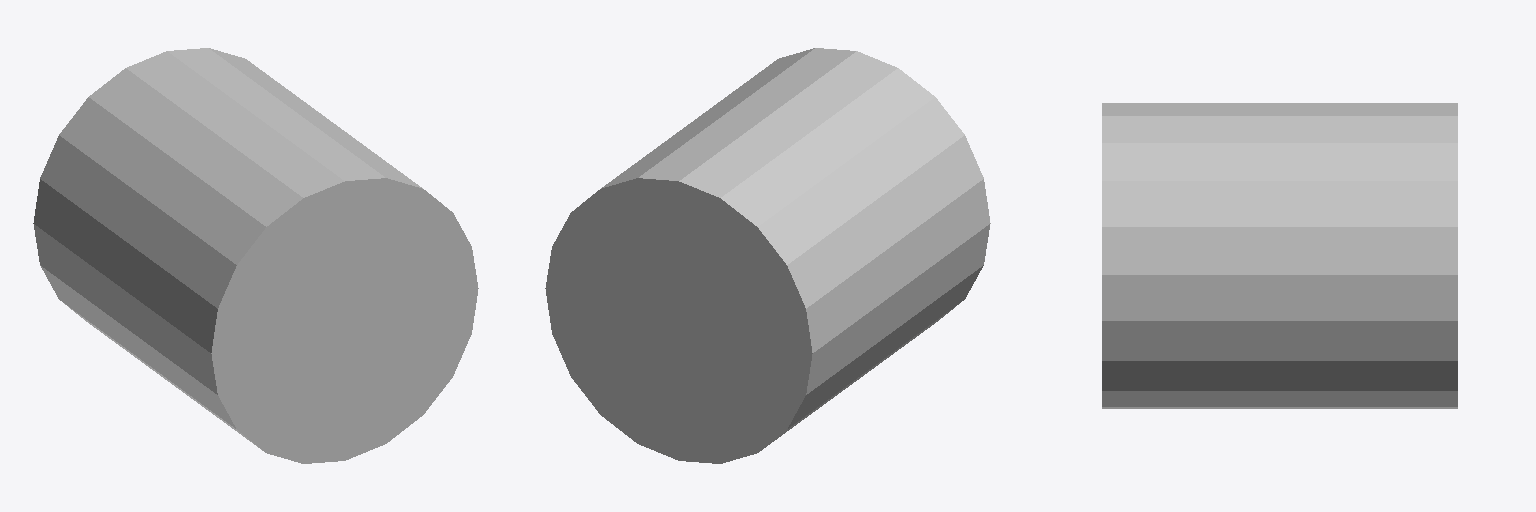
File: Resaltado_Corrugador_D.obj
The picture shows the model from 3 angles: view 1: azimuth 30°, elevation 25°; view 2: azimuth 150°, elevation 25°; view 3: azimuth 270°, elevation 25°; orthographic projection.
Visible parts, largest first — view 1: pCylinder9 Marcadores1; view 2: pCylinder9 Marcadores1; view 3: pCylinder9 Marcadores1.
Boxes of the visible parts, box(x1,y1,x2,y2) form: pCylinder9 Marcadores1: box(33, 48, 478, 463); pCylinder9 Marcadores1: box(545, 48, 990, 463); pCylinder9 Marcadores1: box(1102, 103, 1457, 408).
Size of the model in its own units: 0.0274 by 0.0274 by 0.0316.